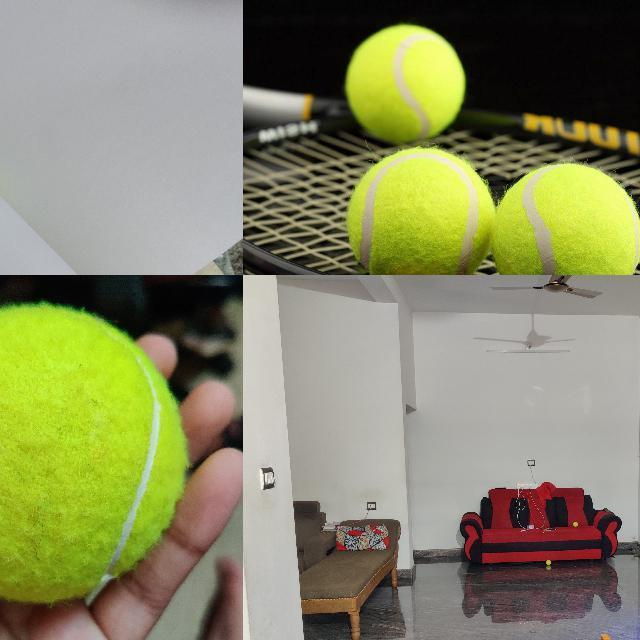tennis-ball: (0, 305, 186, 600), (345, 145, 496, 274), (493, 163, 639, 274), (343, 23, 466, 141), (573, 522, 578, 527), (546, 560, 551, 565)
